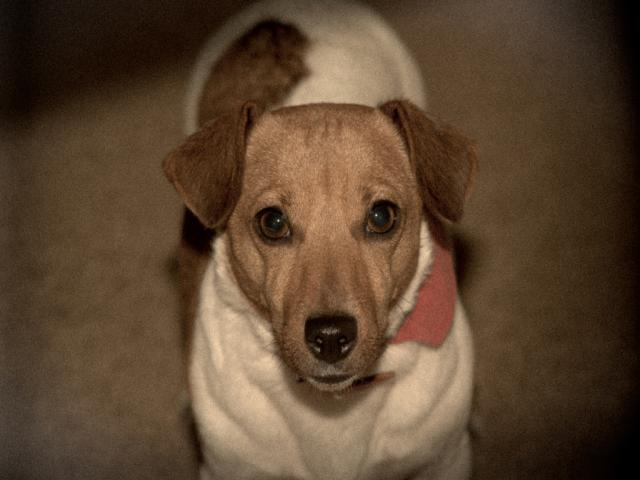Dog: (158, 0, 478, 480)
